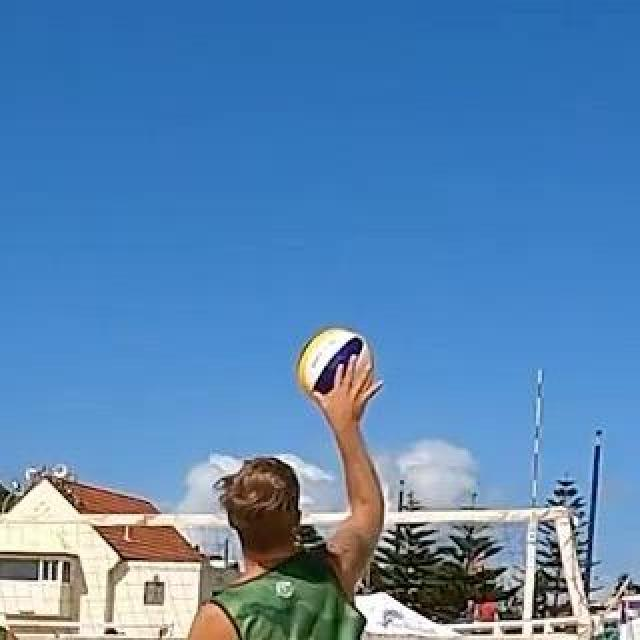volleyball: (296, 326, 374, 400)
